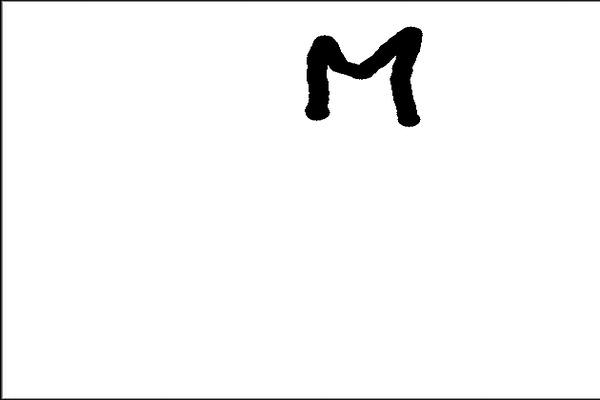M: (305, 26, 419, 129)
